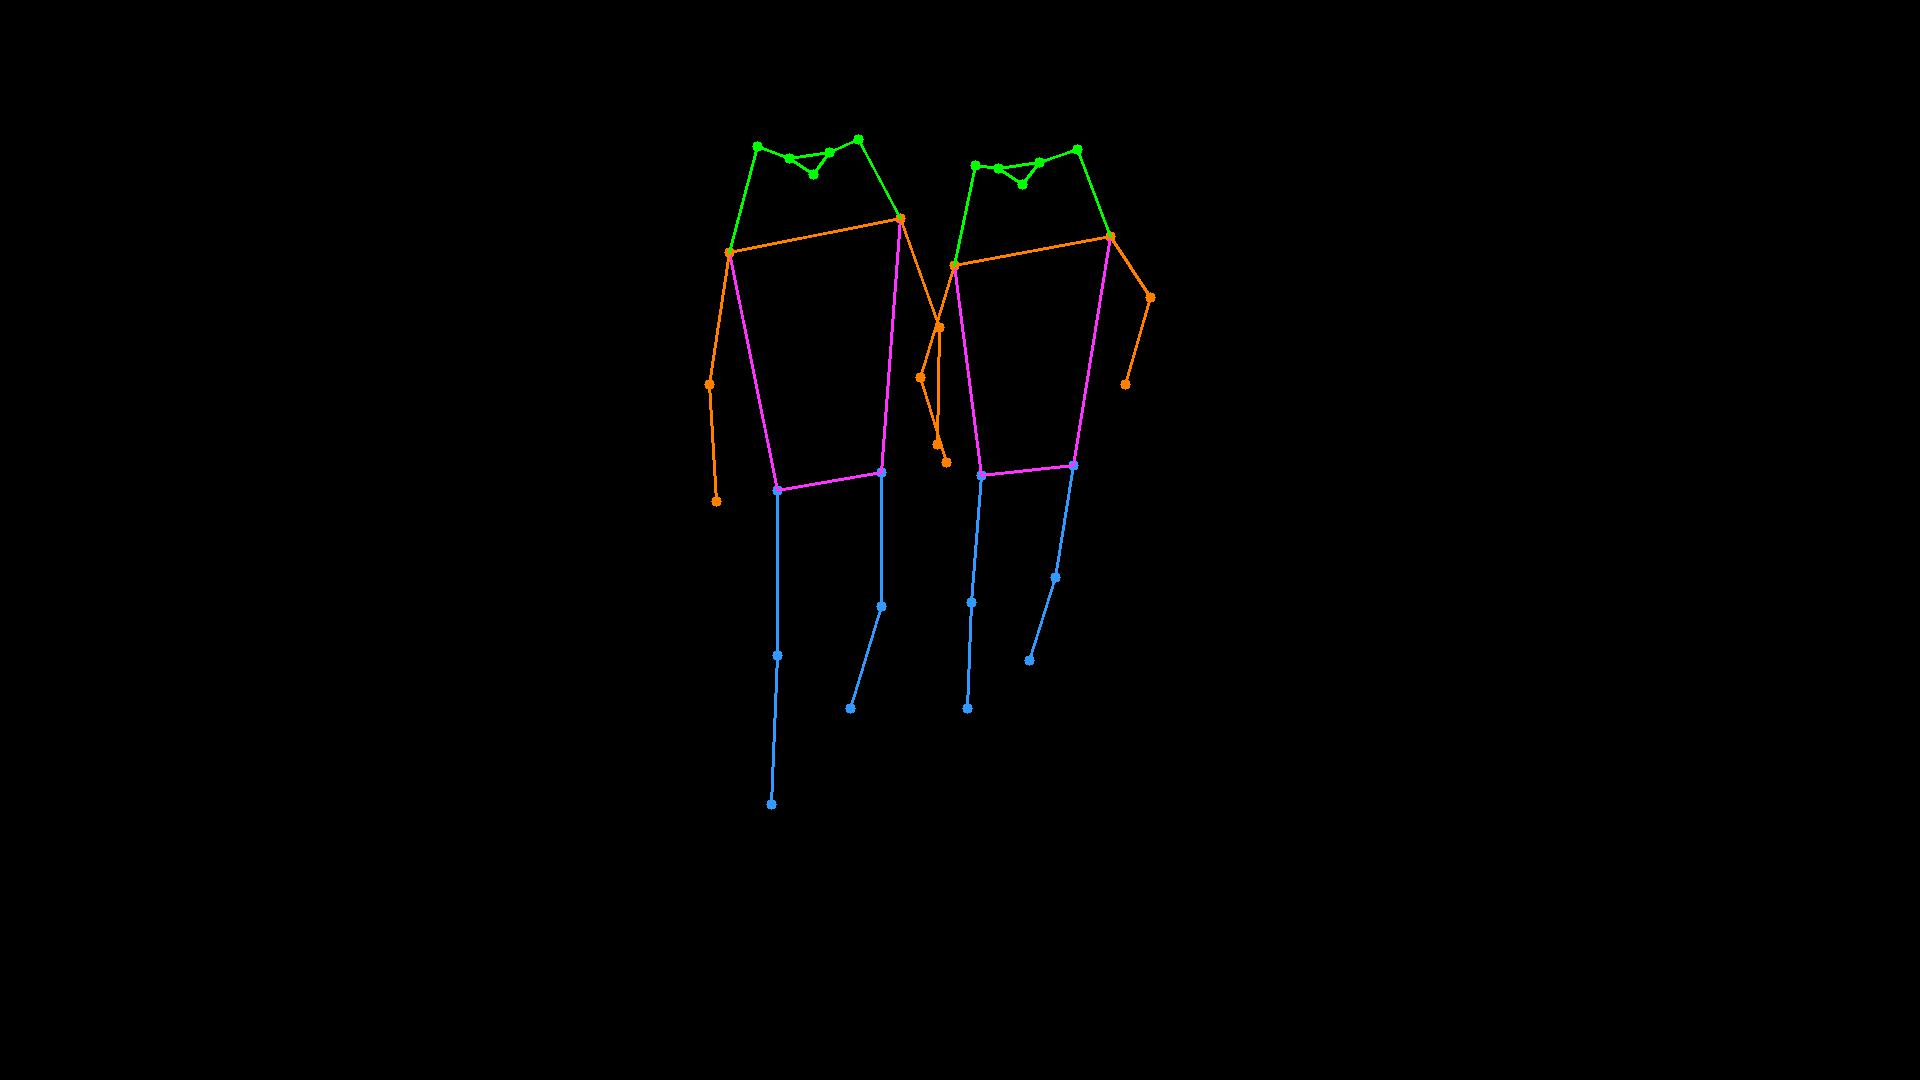normal: (647, 98, 1245, 881)
